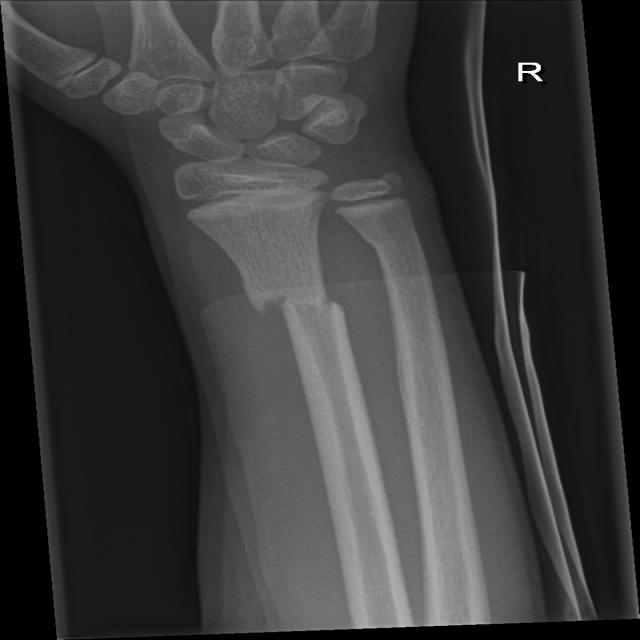radius fracture: (235, 258, 366, 380)
